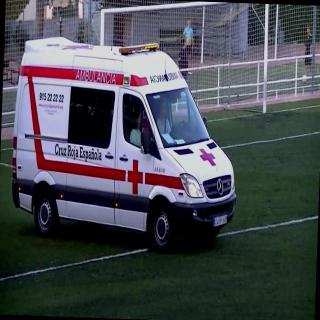Ambulance: (2, 39, 244, 271)
